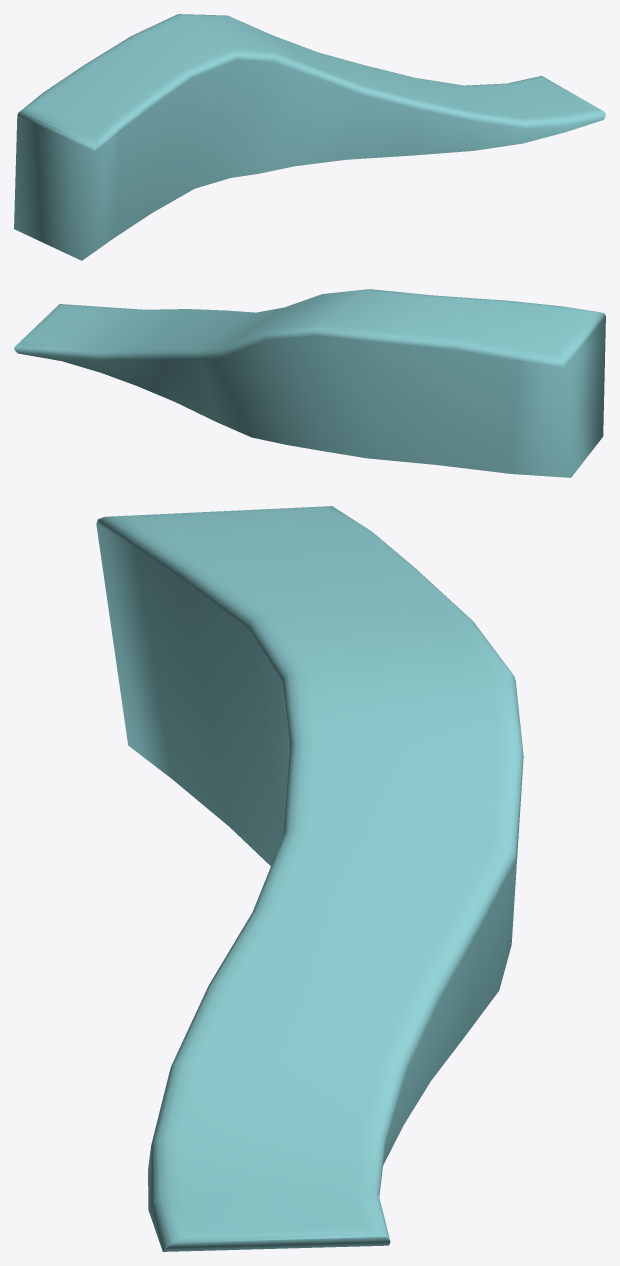
Rendered from glissage_test_01.fbx.
3 renders of one model, top to bottom at view 1: azimuth 30°, elevation 25°; view 2: azimuth 150°, elevation 25°; view 3: azimuth 270°, elevation 25°, orthographic. The views are drawn at different scales.
Visible parts, largest first — view 1: Line001; view 2: Line001; view 3: Line001.
Part boxes in pixels (<box>): Line001: <box>14,14,605,260</box>; Line001: <box>14,289,605,477</box>; Line001: <box>96,506,523,1251</box>.
Size of the model in its own units: 2354 by 540 by 791.
